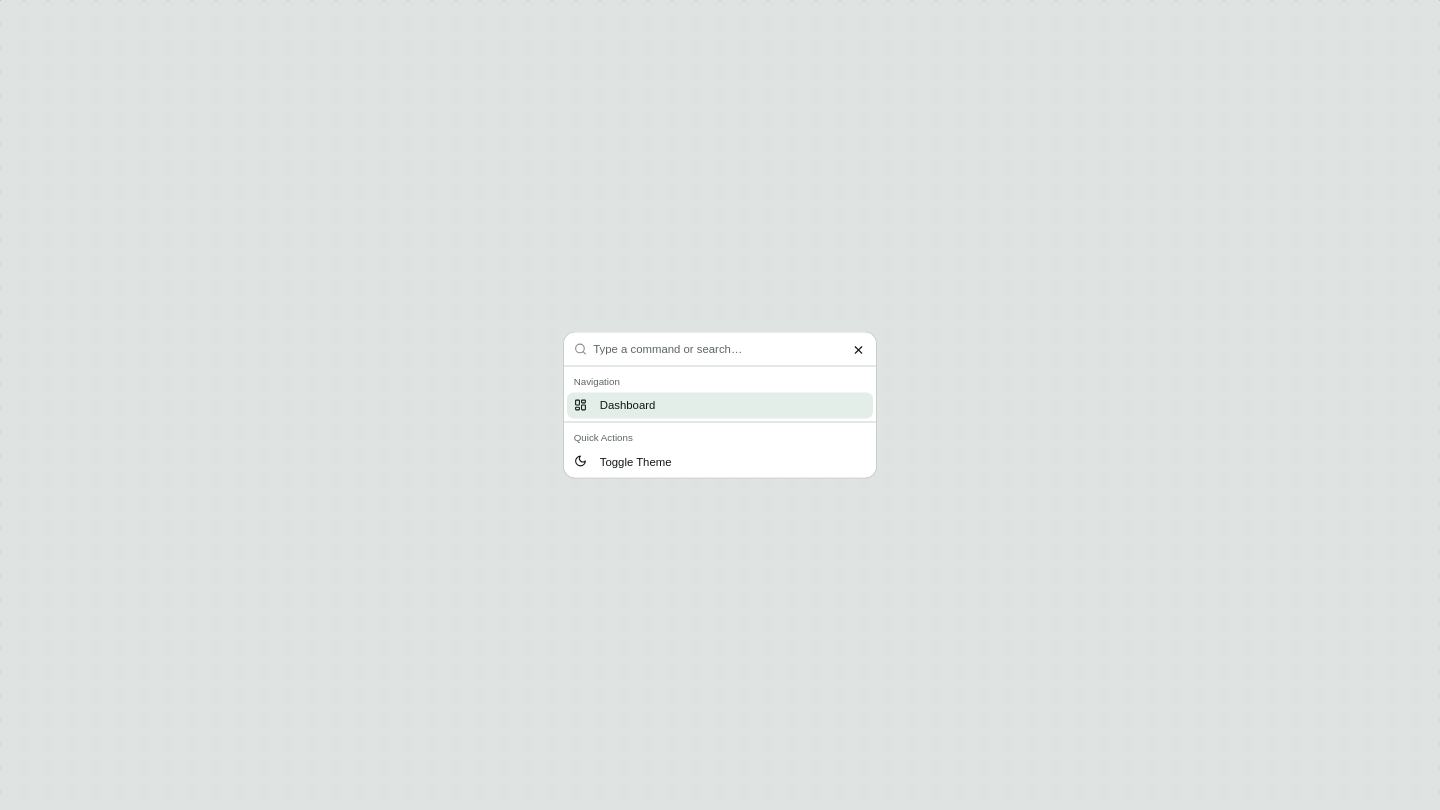
Test case: CommandPalette › debounces and shows search results
The image size is (1440, 810).
Type "report" into the dropdown at (730, 349), box [593,332,866,365]
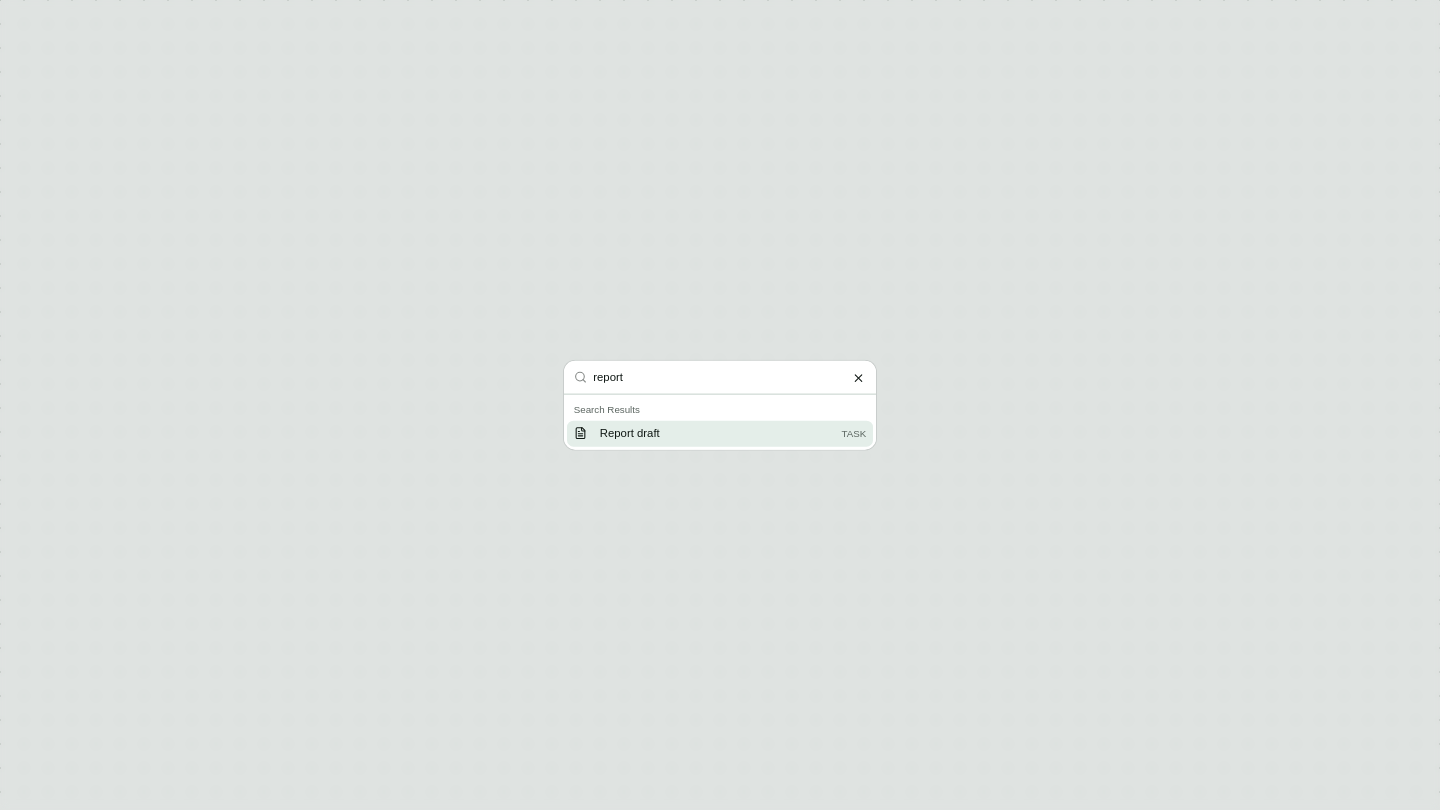
expect the text "Report draft" is shown: met, box [600,427,660,439]
